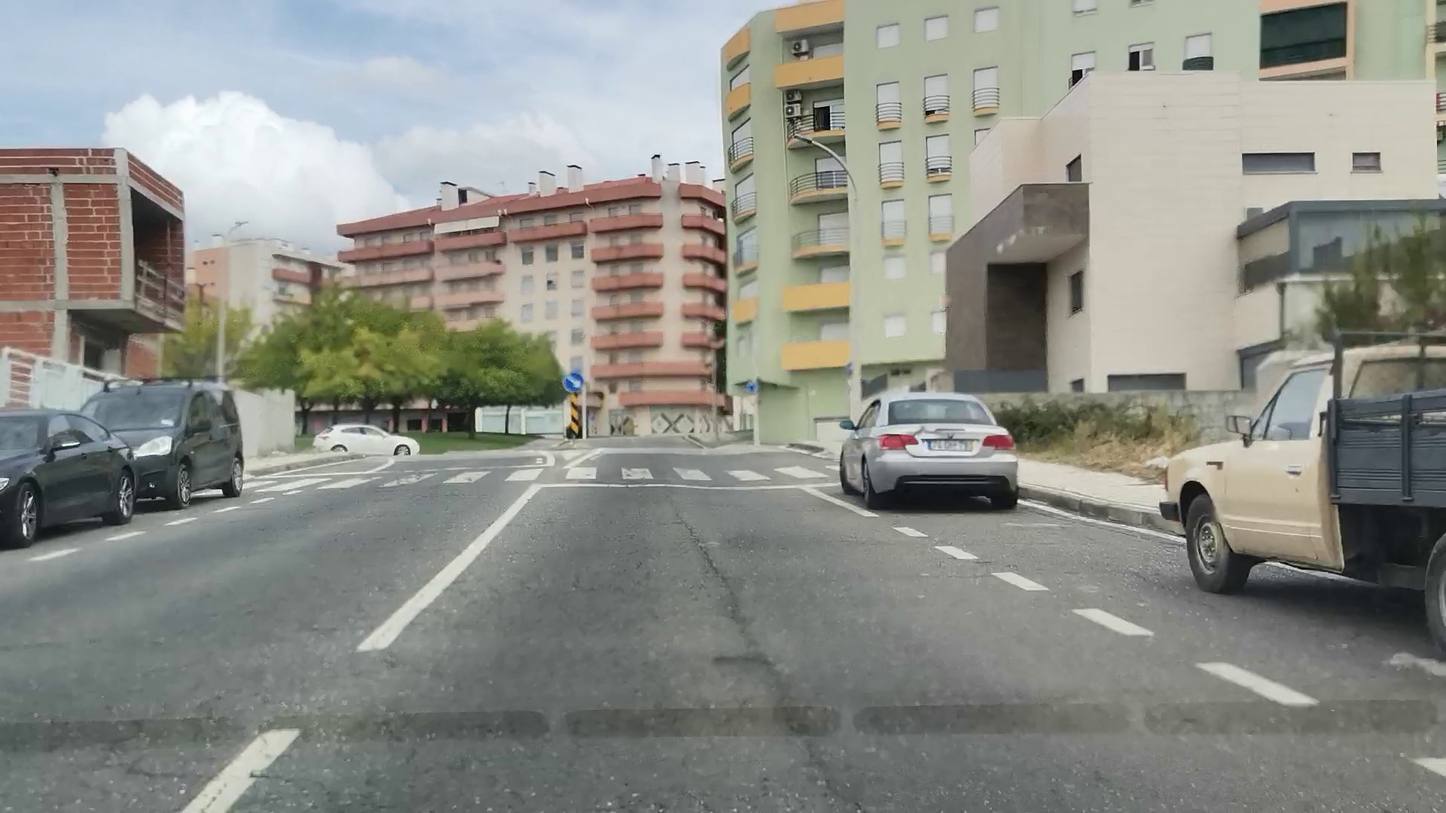Stairs: (264, 463, 840, 497)
